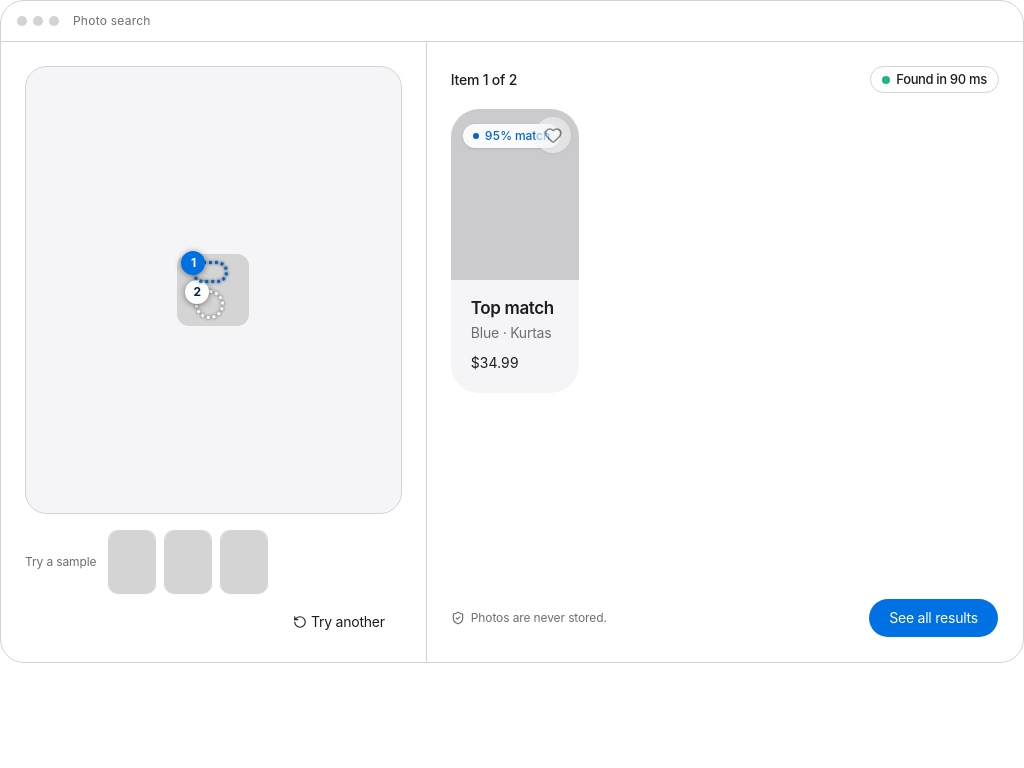
Scenario: LiveSearch › outlines every garment it found where it found it, and switches the matches when another one is picked
Earlier steps of the test are not shown.
Later steps or results of the test are not shown.
Expected: the heading "Top match" is shown, [471,296,559,321]
Expected: the text "Item 1 of 2" is shown, [451,70,517,90]
Click the button "2" at (210, 304), box [195,290,224,319]
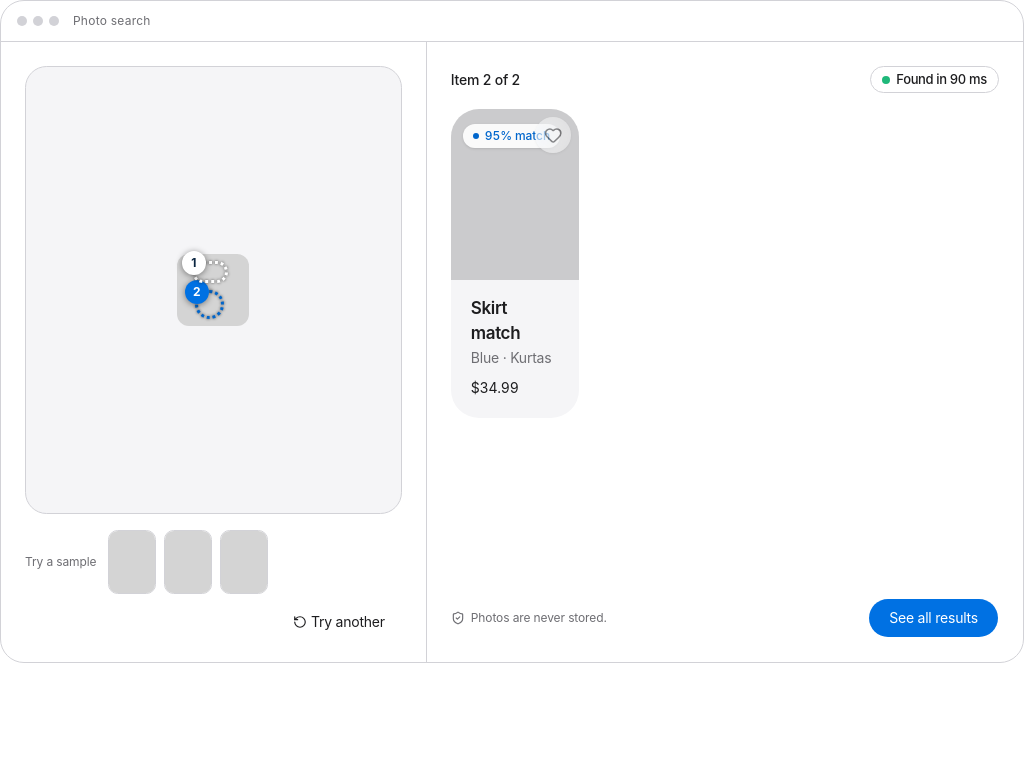
Expected: the heading "Skirt match" is shown, [471,298,520,343]
Expected: the link "Top match" is gone
